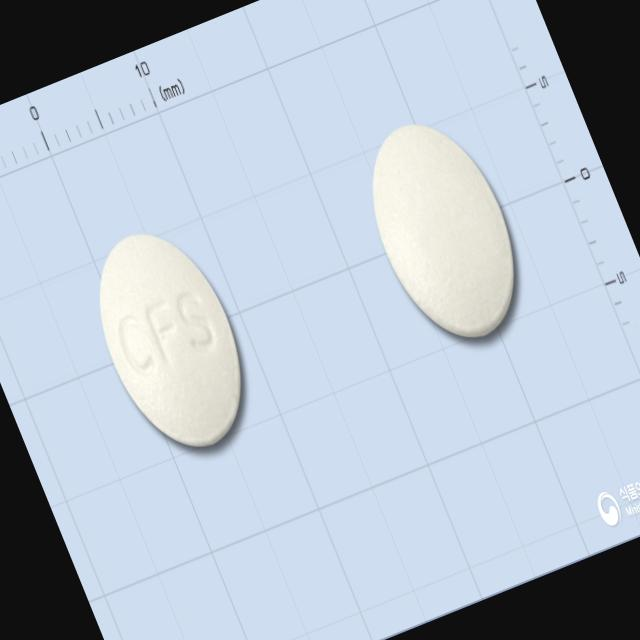Ciproxin: (67, 204, 276, 473)
